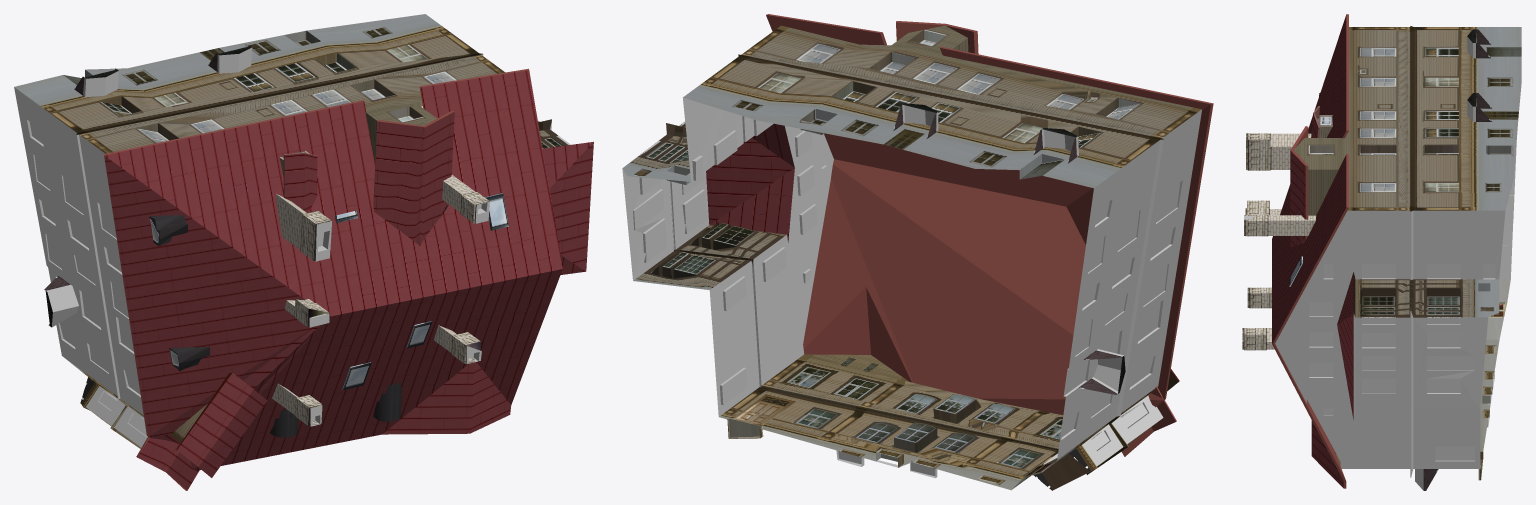
File: Falgi_tee_6-origo.obj
3 renders of one model, left to right at view 1: azimuth 30°, elevation 25°; view 2: azimuth 150°, elevation 25°; view 3: azimuth 270°, elevation 25°, orthographic. The views are drawn at different scales.
Visible parts, largest first — view 1: Falgi_tee_6; view 2: Falgi_tee_6; view 3: Falgi_tee_6.
Part boxes in pixels (x1,y1,x2,y2): Falgi_tee_6: (14,14,593,490); Falgi_tee_6: (622,14,1213,490); Falgi_tee_6: (1242,14,1521,490).
Size of the model in its own units: 28.25 by 20.5 by 16.16.
